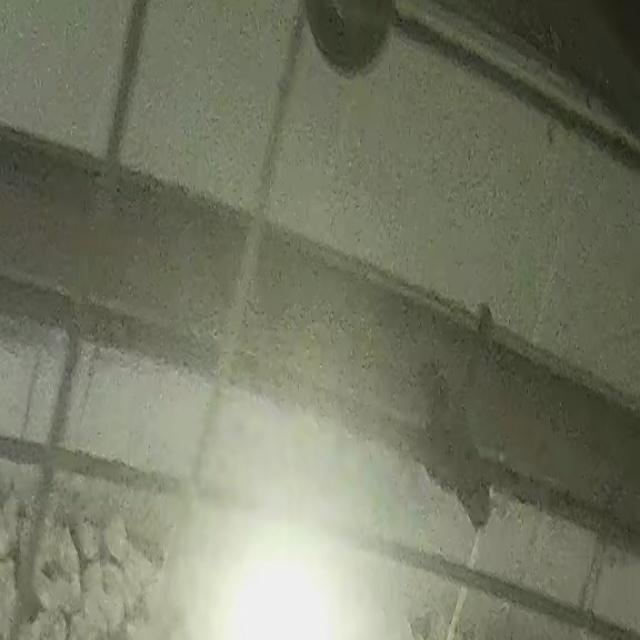chicken: (28, 569, 85, 609), (102, 559, 142, 615), (0, 488, 22, 557), (52, 523, 77, 580), (77, 598, 110, 640), (0, 561, 19, 629), (104, 514, 128, 564), (34, 605, 68, 640), (72, 522, 101, 561), (132, 542, 154, 587), (82, 559, 103, 594)
